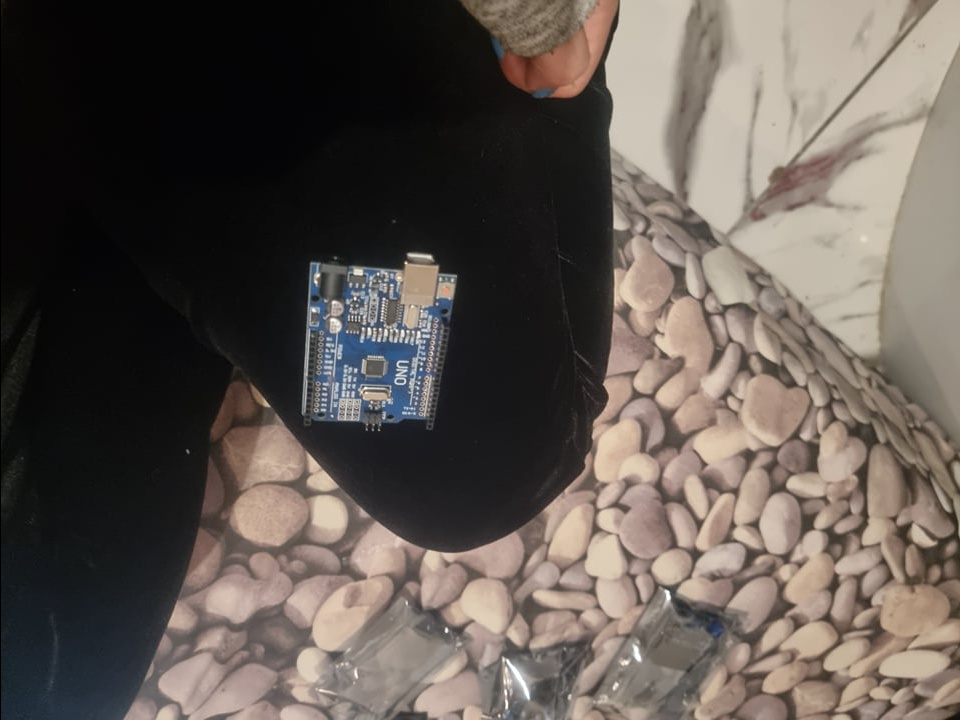UNO R3: (297, 253, 460, 432)
